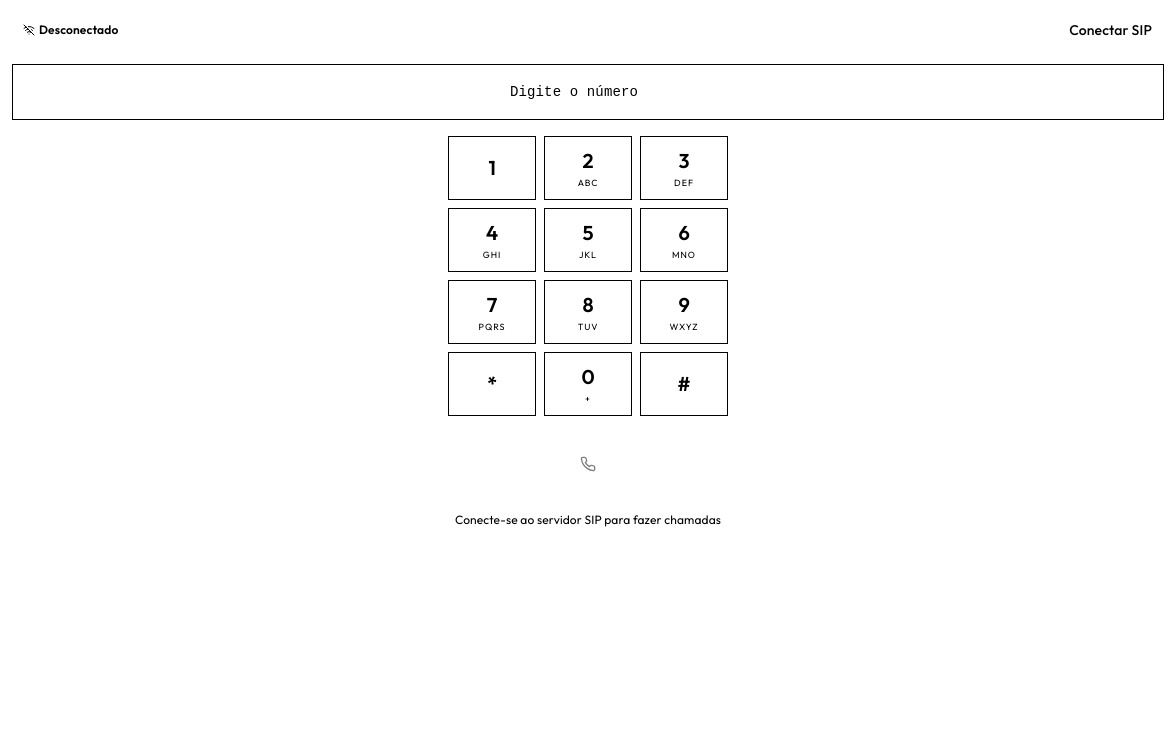
Test case: DialPad › appends digit to number when pressed (not in call)
The image size is (1176, 732).
Click the button "1" at point(492, 168), box [448,136,536,200]
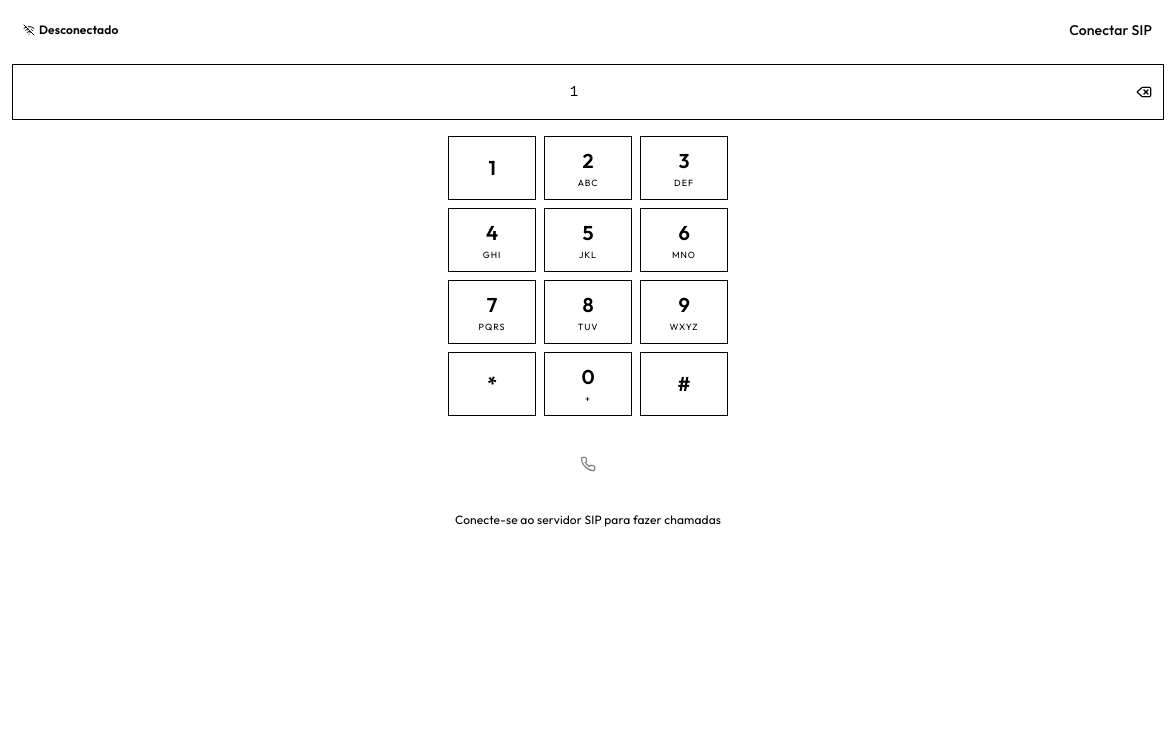
Click the text "2" at point(588, 161), box [583,146,594,176]
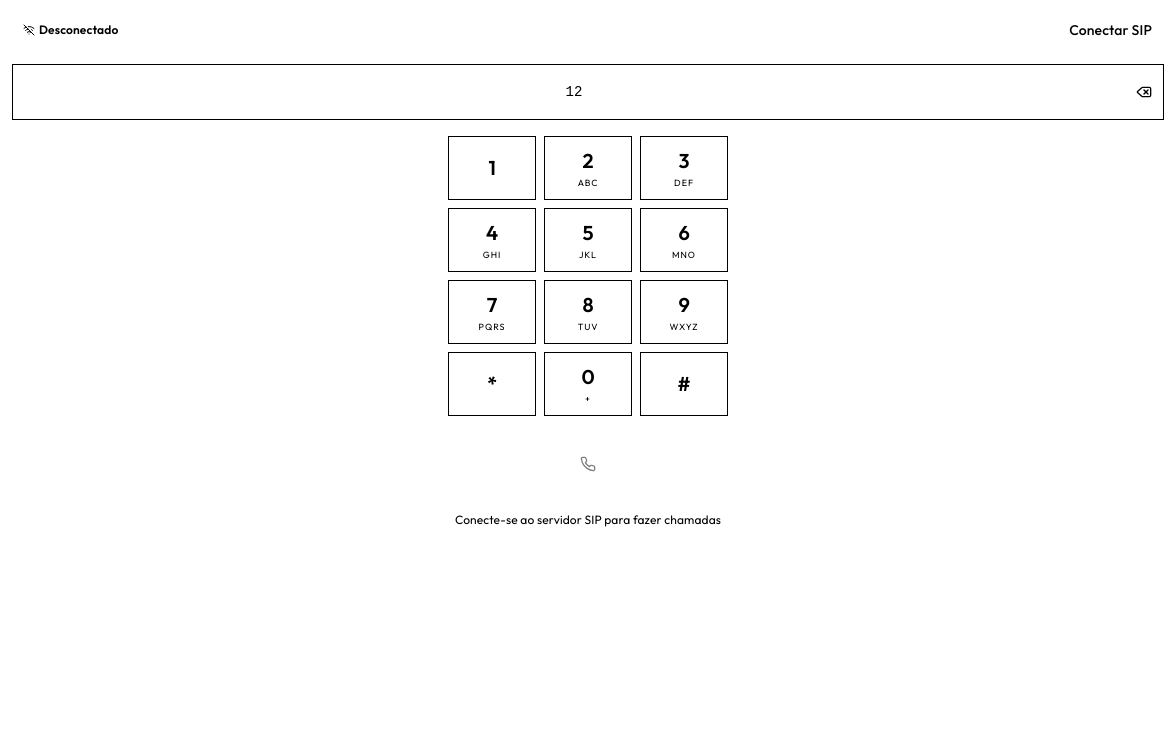
Click the text "3" at point(684, 161), box [679,146,689,176]
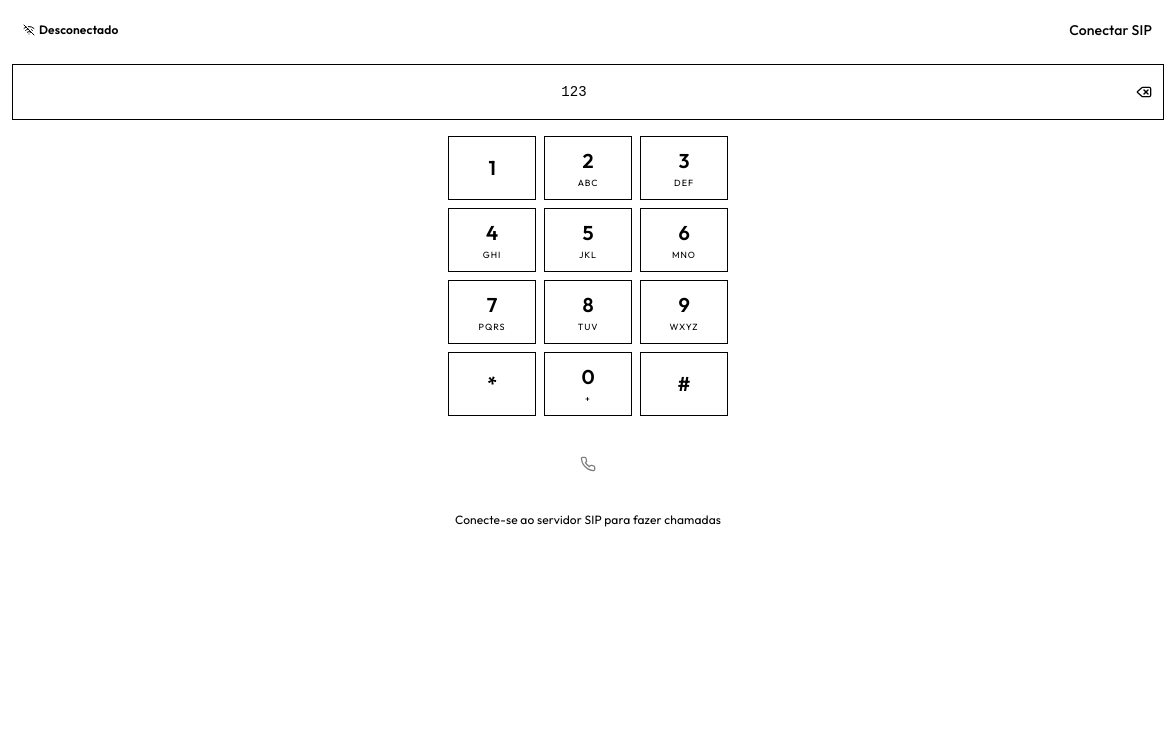
Result: the field with placeholder "Digite o número" holds "123" at [12,64,1164,120]
